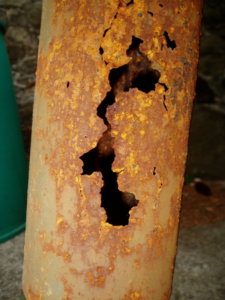hole: (107, 31, 161, 95), (96, 180, 143, 232), (79, 138, 123, 176), (161, 28, 182, 55), (146, 0, 168, 22), (118, 0, 139, 9), (96, 43, 106, 59)
